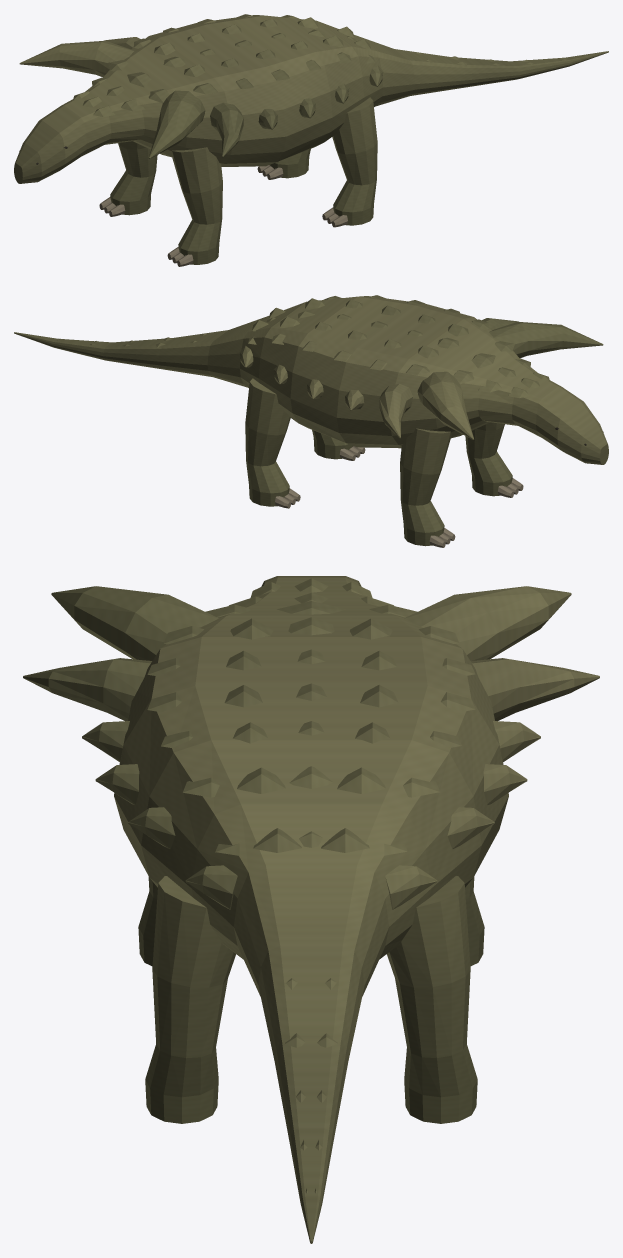
The picture shows the model from 3 angles, top to bottom: view 1: azimuth 30°, elevation 25°; view 2: azimuth 150°, elevation 25°; view 3: azimuth 270°, elevation 25°; orthographic projection. The views are drawn at different scales.
Parts seen in each view (by area): view 1: Continuous wedge head short neck broad torso long clubless t, Dominant forward lateral shoulder blade.001, Dominant forward lateral shoulder blade, Posterior shoulder blade; view 2: Continuous wedge head short neck broad torso long clubless t, Dominant forward lateral shoulder blade, Dominant forward lateral shoulder blade.001, Posterior shoulder blade.001; view 3: Continuous wedge head short neck broad torso long clubless t, Dominant forward lateral shoulder blade.001, Dominant forward lateral shoulder blade, Posterior shoulder blade, Posterior shoulder blade.001, Small marginal osteoderm.003, Small marginal osteoderm.007, Small marginal osteoderm.002, Small marginal osteoderm.006, Small marginal osteoderm, Small marginal osteoderm.004, Small marginal osteoderm.001 (+1 smaller).
Boxes of the visible parts, <box> form: Continuous wedge head short neck broad torso long clubless t: <box>14,15,608,264</box>; Dominant forward lateral shoulder blade.001: <box>19,40,133,77</box>; Dominant forward lateral shoulder blade: <box>148,90,205,158</box>; Posterior shoulder blade: <box>210,102,243,157</box>; Continuous wedge head short neck broad torso long clubless t: <box>14,296,608,546</box>; Dominant forward lateral shoulder blade: <box>489,321,603,358</box>; Dominant forward lateral shoulder blade.001: <box>417,371,474,439</box>; Posterior shoulder blade.001: <box>379,383,412,438</box>; Continuous wedge head short neck broad torso long clubless t: <box>114,576,508,1243</box>; Dominant forward lateral shoulder blade.001: <box>404,586,571,660</box>; Dominant forward lateral shoulder blade: <box>51,586,218,660</box>; Posterior shoulder blade: <box>23,658,151,720</box>; Posterior shoulder blade.001: <box>471,658,599,720</box>; Small marginal osteoderm.003: <box>185,865,237,909</box>; Small marginal osteoderm.007: <box>385,865,437,909</box>; Small marginal osteoderm.002: <box>128,807,175,848</box>; Small marginal osteoderm.006: <box>447,807,494,848</box>; Small marginal osteoderm: <box>82,721,129,762</box>; Small marginal osteoderm.004: <box>493,721,540,762</box>; Small marginal osteoderm.001: <box>95,764,139,804</box>.
Bounding box in the file's own units: 1 × 0.282 × 0.4235.
Materials: 4 (2 with a texture image).
